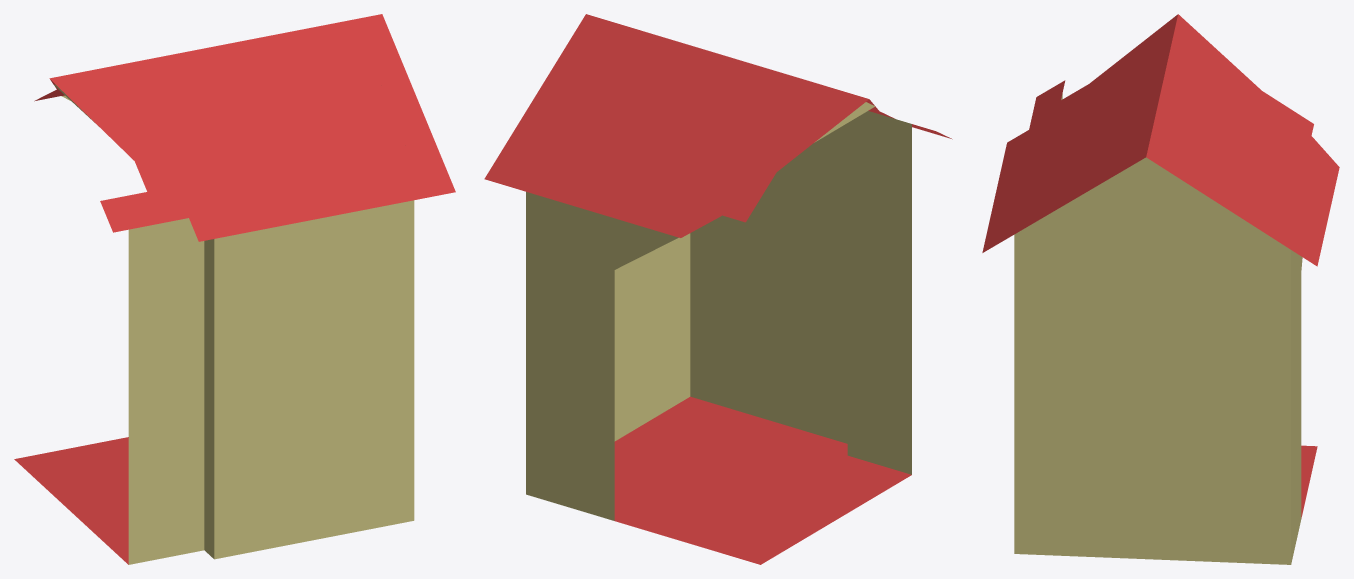
3 views of the same model, side by side, from view 1: azimuth 30°, elevation 25°; view 2: azimuth 150°, elevation 25°; view 3: azimuth 270°, elevation 25° (orthographic). The views are drawn at different scales.
Size of the model in its own units: 12.62 by 12.23 by 15.65.
